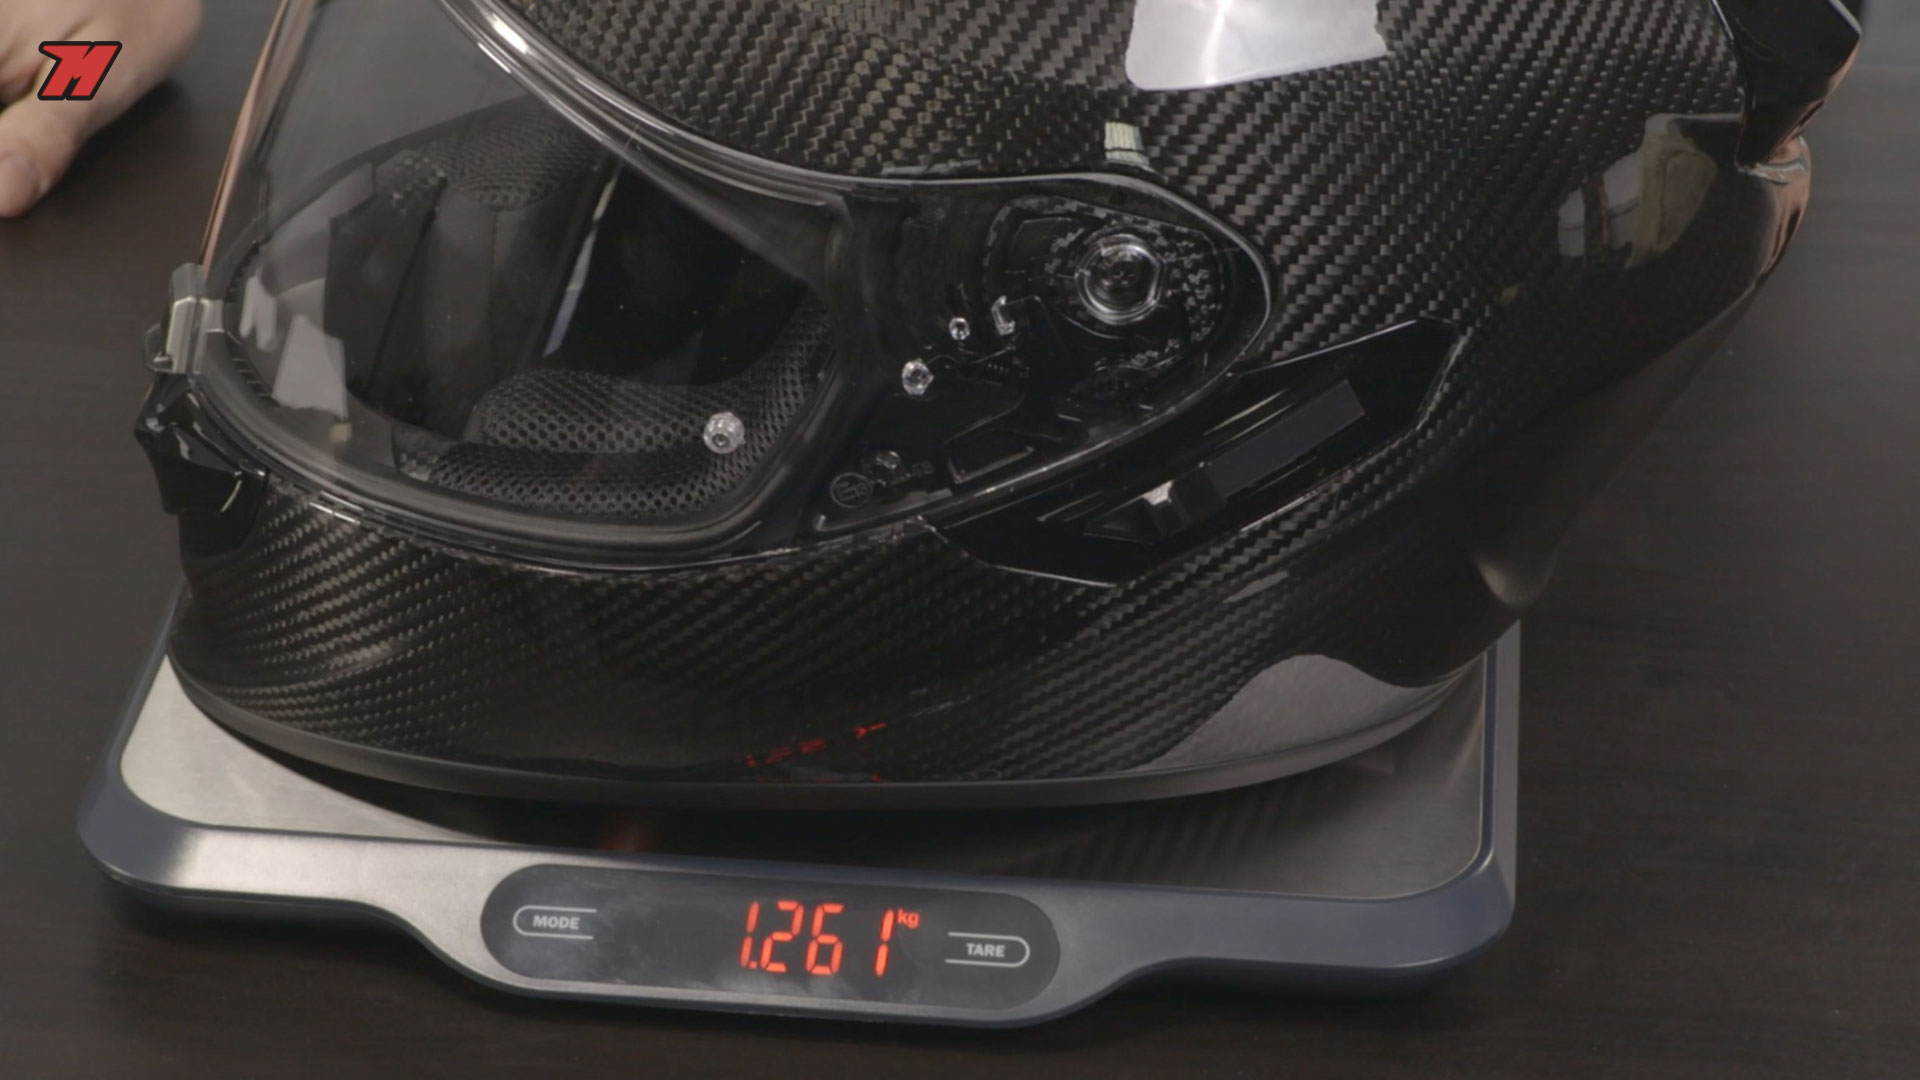with_helmet: (128, 7, 1894, 858)
